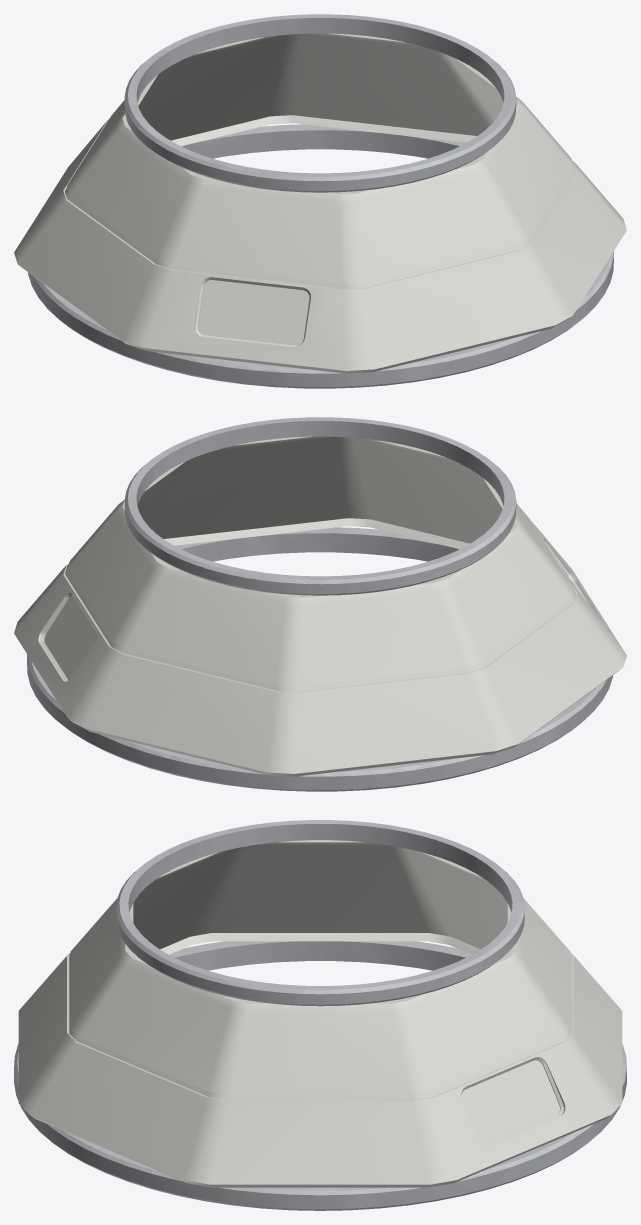
The model's file is ax_struct_02_adapter_m_l.glb.
3 renders of one model, top to bottom at view 1: azimuth 30°, elevation 25°; view 2: azimuth 150°, elevation 25°; view 3: azimuth 270°, elevation 25°, orthographic. The views are drawn at different scales.
Visible parts, largest first — view 1: adapter_shell, interface_rings; view 2: adapter_shell, interface_rings; view 3: adapter_shell, interface_rings.
Boxes of the visible parts, x1=… form: adapter_shell: x1=14, y1=33, x2=626, y2=373; interface_rings: x1=28, y1=14, x2=613, y2=388; adapter_shell: x1=14, y1=436, x2=626, y2=776; interface_rings: x1=27, y1=417, x2=612, y2=791; adapter_shell: x1=18, y1=840, x2=622, y2=1187; interface_rings: x1=14, y1=820, x2=626, y2=1210.
Bounding box in the file's own units: 3.75 × 1.2 × 3.75.
2 materials, 1 textured.
